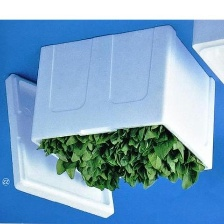foam_box: (0, 22, 219, 221)
